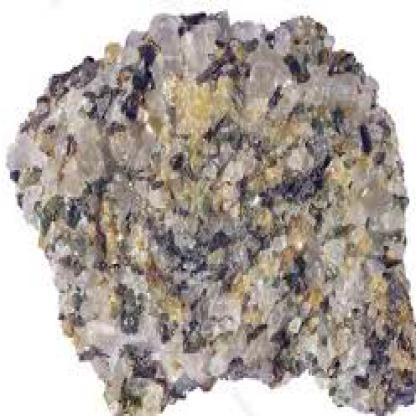Igneous_Diorite: (6, 9, 416, 415)
